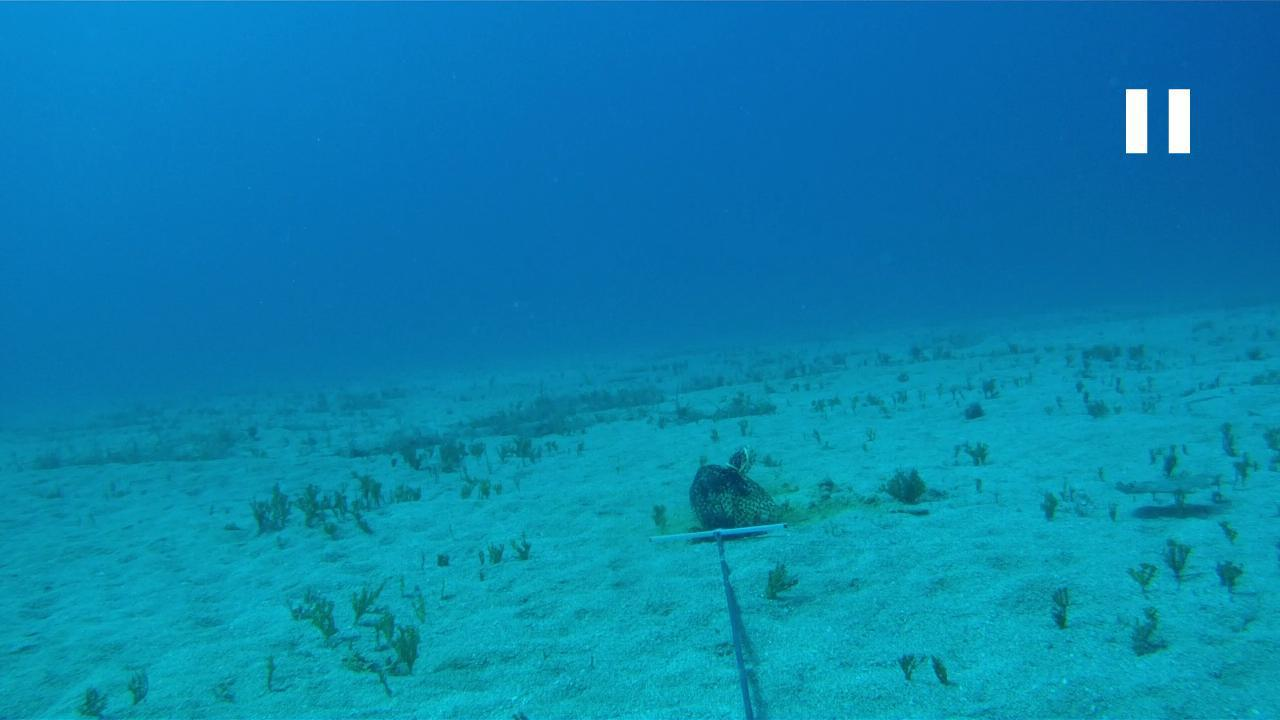bothus: (1106, 470, 1228, 498)
